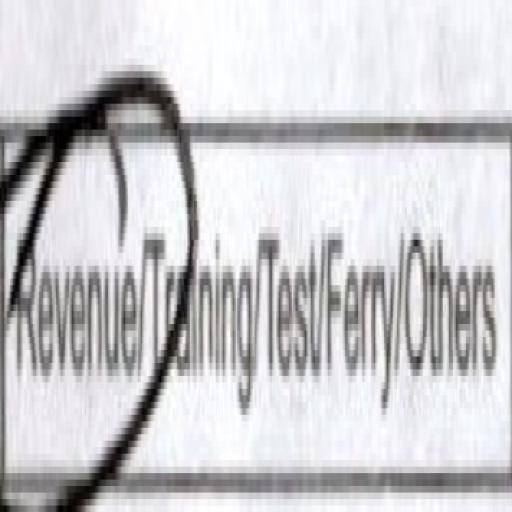check: (1, 35, 145, 512)
